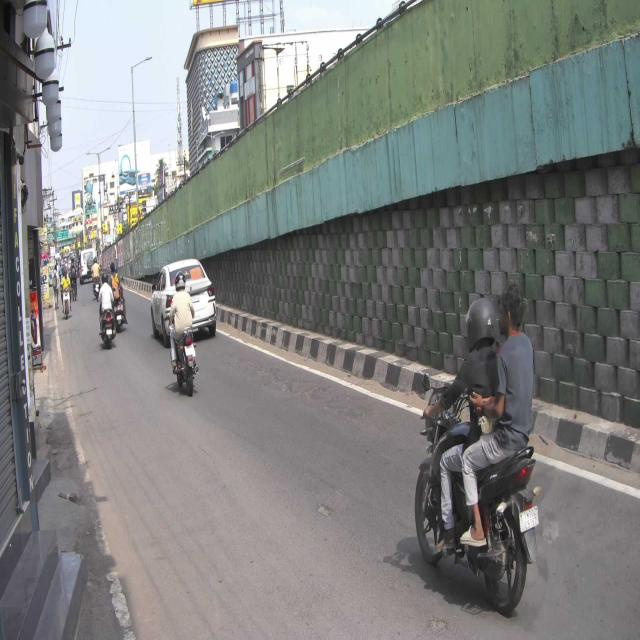double_rider: (416, 278, 539, 613)
